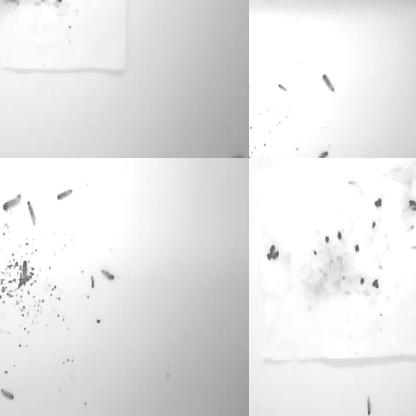PtecticusTenebrifer: (3, 194, 22, 211), (322, 75, 336, 94), (26, 201, 36, 227), (57, 187, 73, 202), (100, 267, 116, 282), (0, 387, 15, 402), (249, 85, 253, 118), (0, 286, 7, 302), (366, 394, 371, 416), (0, 214, 4, 237), (316, 151, 329, 158), (0, 233, 7, 246), (229, 153, 247, 158), (249, 197, 256, 209), (90, 276, 95, 290), (87, 0, 104, 4), (249, 147, 255, 158), (0, 405, 6, 416), (249, 127, 252, 147), (249, 0, 256, 8), (0, 158, 6, 167), (0, 203, 2, 224), (0, 158, 7, 164), (249, 0, 257, 4), (0, 406, 3, 416)
